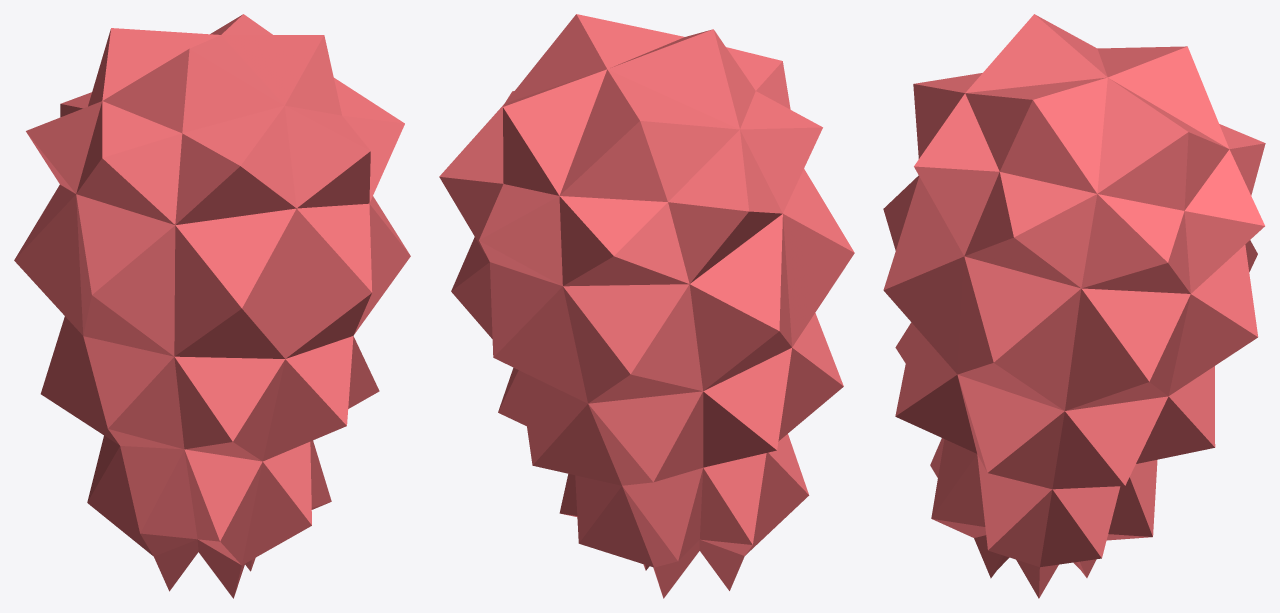
File: SpikeOilFruit.fbx
3 views of the same model, side by side, from view 1: azimuth 30°, elevation 25°; view 2: azimuth 150°, elevation 25°; view 3: azimuth 270°, elevation 25° (orthographic). The views are drawn at different scales.
Parts seen in each view (by area): view 1: SpikeOilFruit_LOD0; view 2: SpikeOilFruit_LOD0; view 3: SpikeOilFruit_LOD0.
Part boxes in pixels (x1=…): SpikeOilFruit_LOD0: x1=14, y1=14, x2=410, y2=598; SpikeOilFruit_LOD0: x1=439, y1=14, x2=854, y2=598; SpikeOilFruit_LOD0: x1=883, y1=14, x2=1265, y2=598.
Size of what is drawn, in the model's own units: 0.1764 by 0.2798 by 0.1753.
